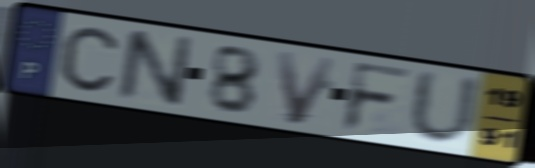8: (206, 44, 265, 116)
C: (58, 24, 121, 95)
F: (338, 58, 417, 136)
N: (115, 27, 197, 110)
U: (406, 65, 484, 149)
V: (272, 48, 342, 128)
